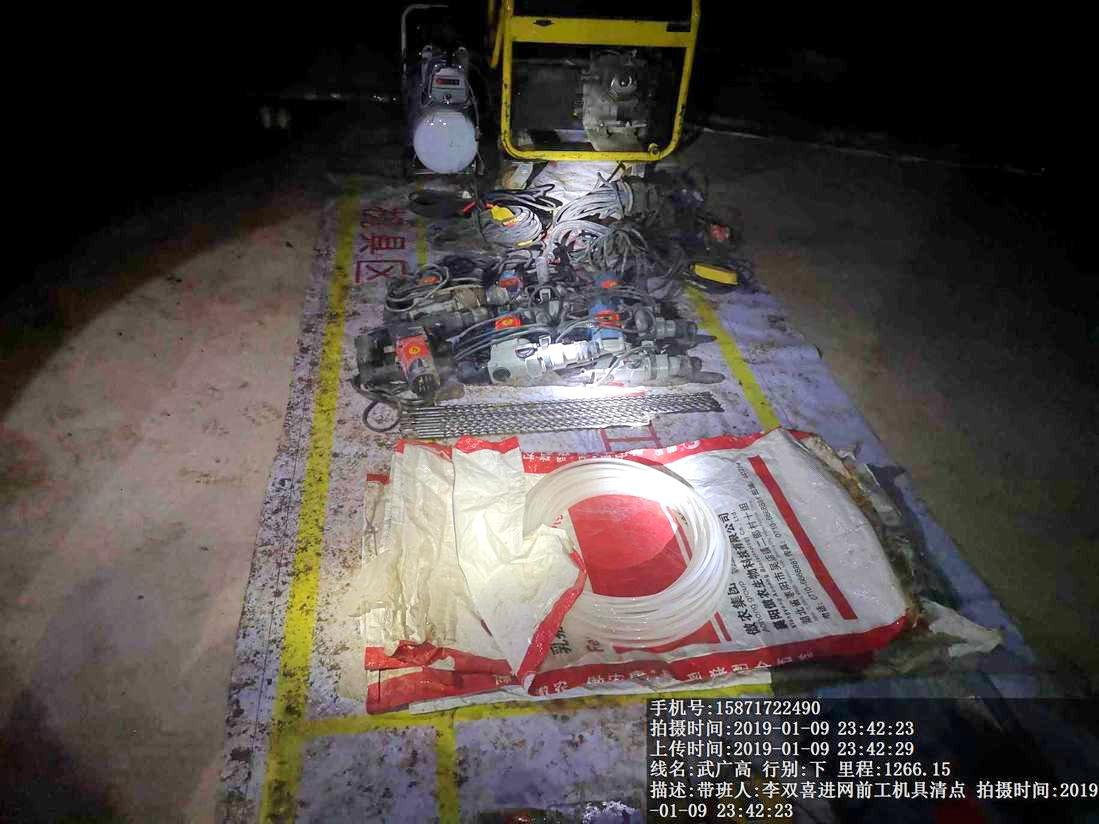BZD: (321, 423, 967, 696)
DJ: (486, 4, 714, 167)
SG: (524, 465, 739, 640)
